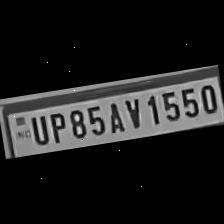0: (196, 80, 220, 116)
1: (140, 92, 162, 128)
5: (82, 100, 108, 138), (156, 86, 182, 124), (178, 84, 202, 120)
8: (64, 105, 88, 142)
A: (102, 96, 127, 136)
P: (44, 108, 69, 146)
U: (26, 112, 50, 148)
V: (120, 94, 145, 132)
